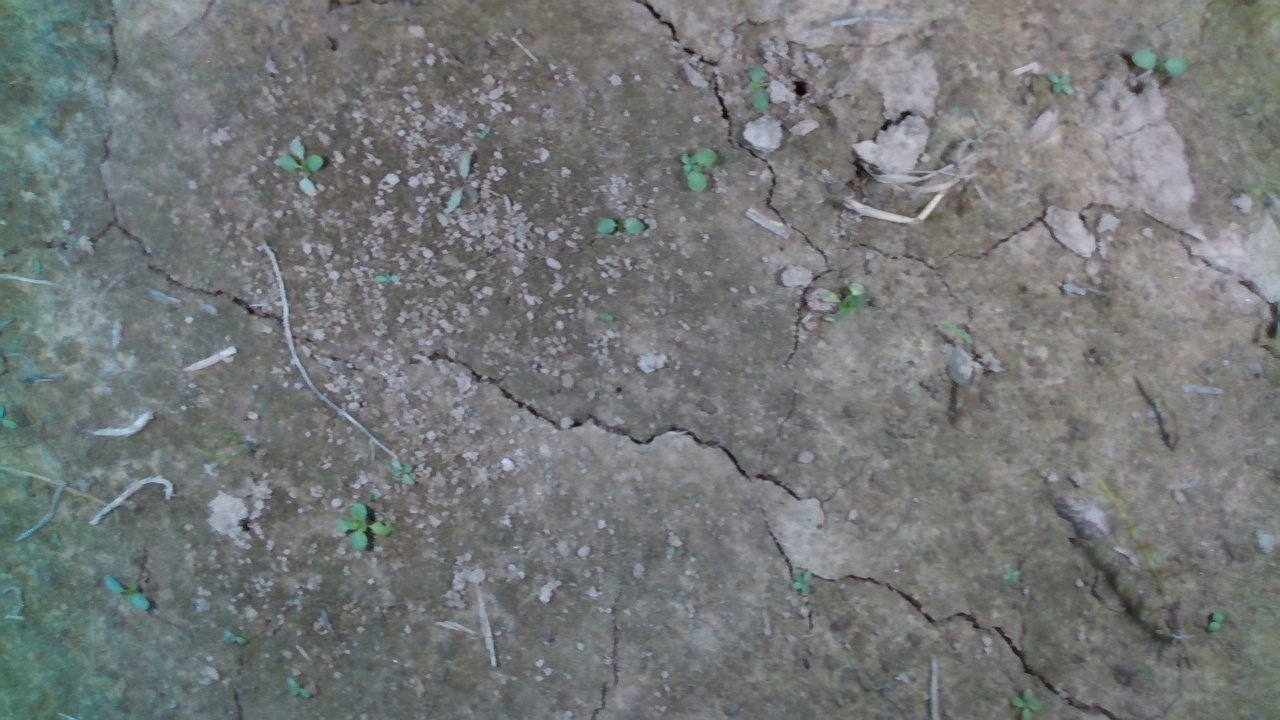weed: (336, 498, 394, 558), (1128, 42, 1190, 83), (277, 137, 326, 181), (675, 146, 715, 196), (103, 576, 151, 610), (596, 214, 648, 238), (828, 282, 858, 321), (787, 568, 823, 596), (998, 563, 1026, 588), (1050, 69, 1075, 95)
